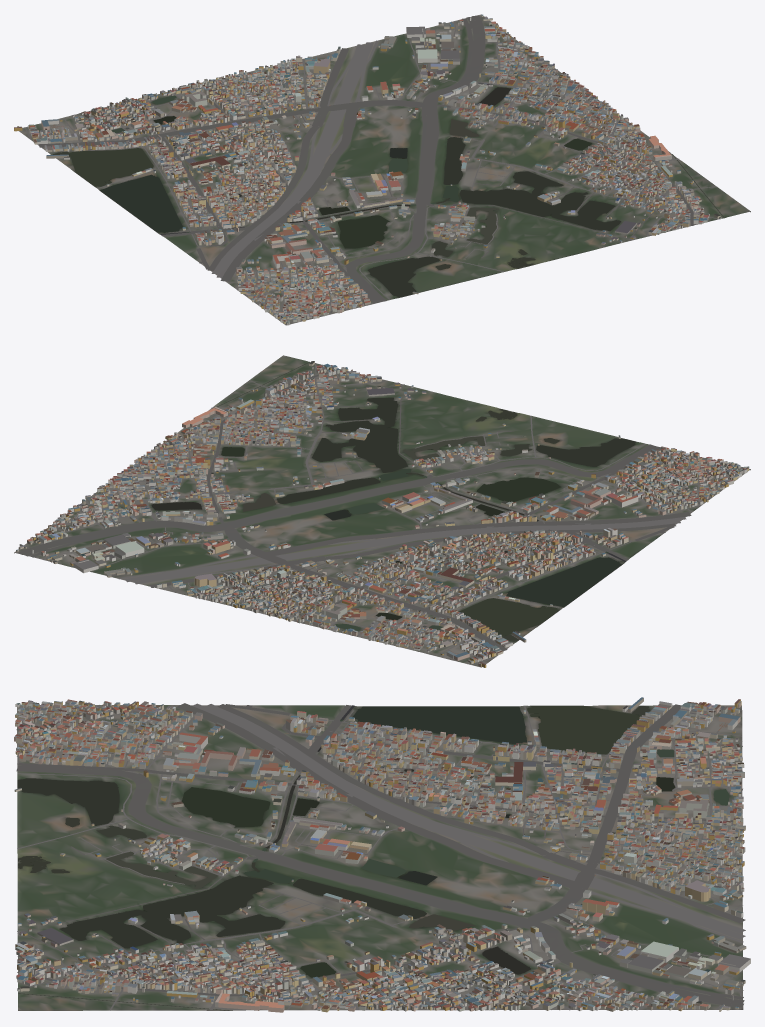
3 views of the same model, one above another, from view 1: azimuth 30°, elevation 25°; view 2: azimuth 150°, elevation 25°; view 3: azimuth 270°, elevation 25° (orthographic). The views are drawn at different scales.
Visible parts, largest first — view 1: ground, buildings, roads, water; view 2: buildings, ground, roads, water; view 3: buildings, ground, roads, water.
Part boxes in pixels (x1,y1,x2,y2): ground: [19, 14, 750, 325]; buildings: [14, 14, 721, 325]; roads: [24, 15, 718, 325]; water: [53, 87, 724, 297]; buildings: [16, 361, 749, 667]; ground: [14, 355, 750, 667]; roads: [18, 363, 750, 665]; water: [151, 361, 636, 641]; buildings: [14, 697, 750, 1012]; ground: [17, 705, 743, 1010]; roads: [16, 703, 745, 1010]; water: [17, 705, 729, 1010].
Bounding box in the file's own units: 1432 × 29.95 × 1425.
